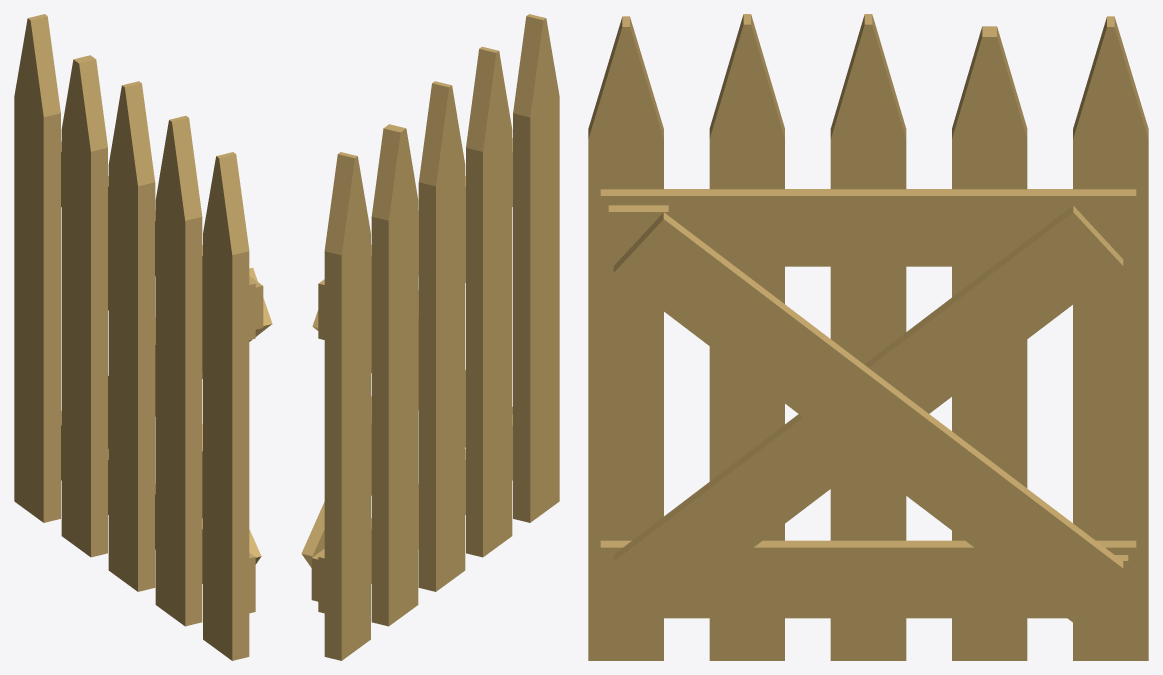
Rendered from fence1.fbx.
3 renders of one model, left to right at view 1: azimuth 30°, elevation 25°; view 2: azimuth 150°, elevation 25°; view 3: azimuth 270°, elevation 25°, orthographic. The views are drawn at different scales.
Parts seen in each view (by area): view 1: fence_1; view 2: fence_1; view 3: fence_1.
Part boxes in pixels (left/top/right/bottom): fence_1: left=14, top=14, right=272, bottom=660; fence_1: left=301, top=14, right=559, bottom=660; fence_1: left=588, top=14, right=1148, bottom=660.
Size of the model in its own units: 23.01 by 217 by 173.
